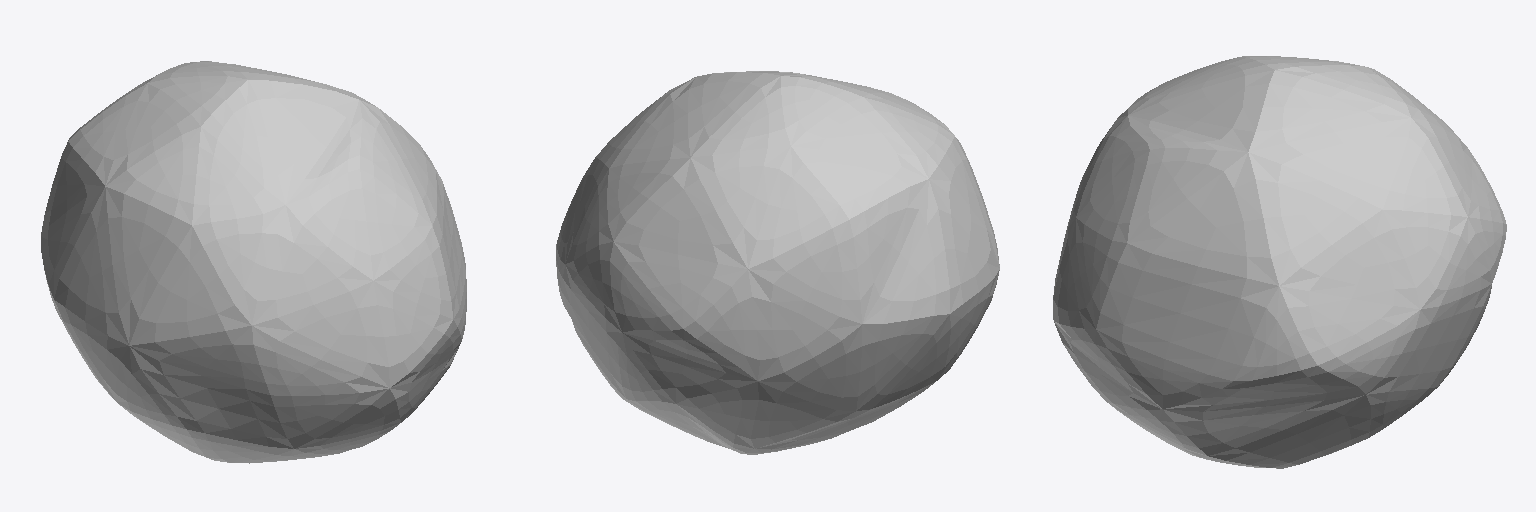
The model's file is bolide.obj.
The picture shows the model from 3 angles: view 1: azimuth 30°, elevation 25°; view 2: azimuth 150°, elevation 25°; view 3: azimuth 270°, elevation 25°; orthographic projection.
Parts seen in each view (by area): view 1: Icosphere; view 2: Icosphere; view 3: Icosphere.
Part boxes in pixels (left/top/right/bottom): Icosphere: left=41, top=61, right=466, bottom=463; Icosphere: left=556, top=71, right=999, bottom=454; Icosphere: left=1053, top=56, right=1506, bottom=468.
Bounding box in the file's own units: 1.85 × 1.65 × 1.88.